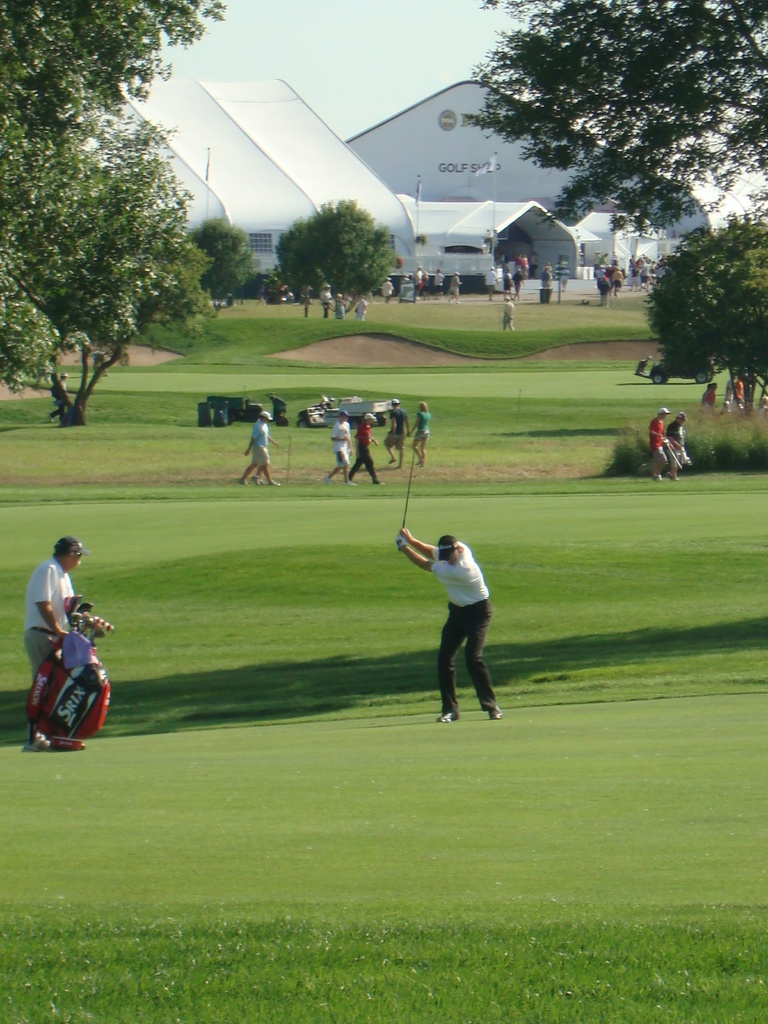Tree: (0, 0, 233, 389), (457, 6, 737, 277), (0, 102, 203, 430), (662, 228, 767, 405), (277, 190, 410, 326), (176, 209, 277, 304)
